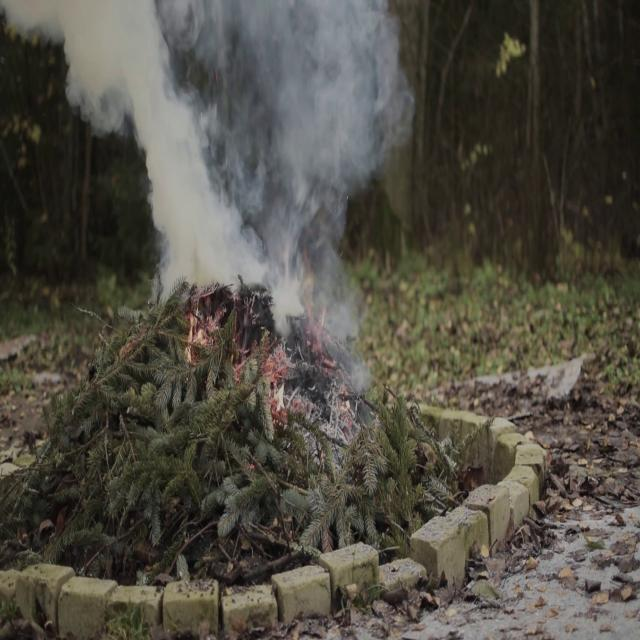Smoke: (14, 0, 394, 379)
